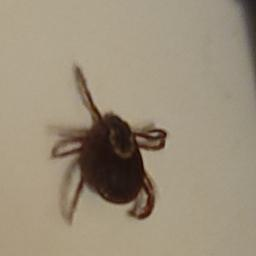Dermacentor variabilis: (52, 64, 169, 222)
